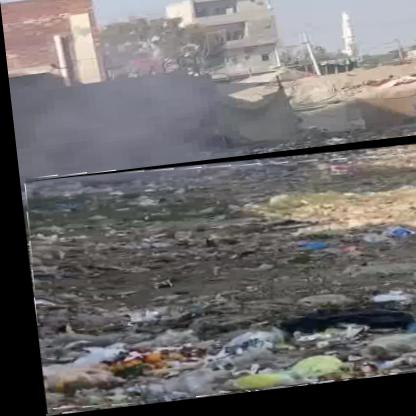Garbage: (16, 144, 416, 416)
